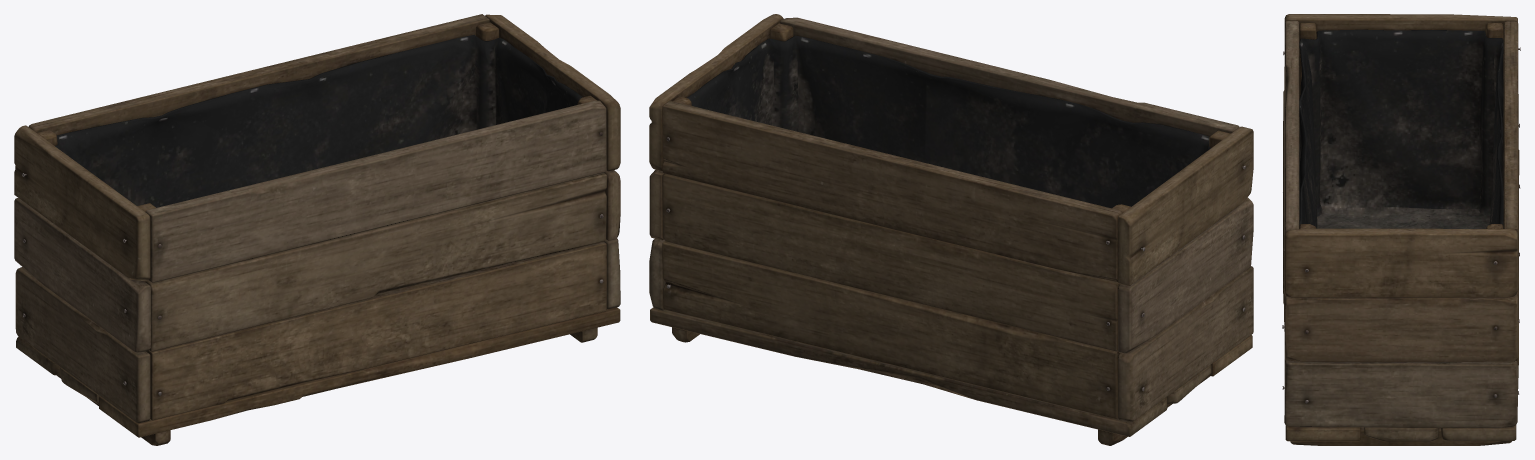
Rendered from planter_box_01.glb.
3 views of the same model, side by side, from view 1: azimuth 30°, elevation 25°; view 2: azimuth 150°, elevation 25°; view 3: azimuth 270°, elevation 25° (orthographic). The views are drawn at different scales.
Visible parts, largest first — view 1: planter_box_01; view 2: planter_box_01; view 3: planter_box_01.
Part boxes in pixels (x1,y1,x2,y2): planter_box_01: (14, 14, 620, 445); planter_box_01: (649, 14, 1253, 445); planter_box_01: (1282, 14, 1520, 445).
Bounding box in the file's own units: 0.9126 × 0.4249 × 0.4137.
1 material, 1 textured.
